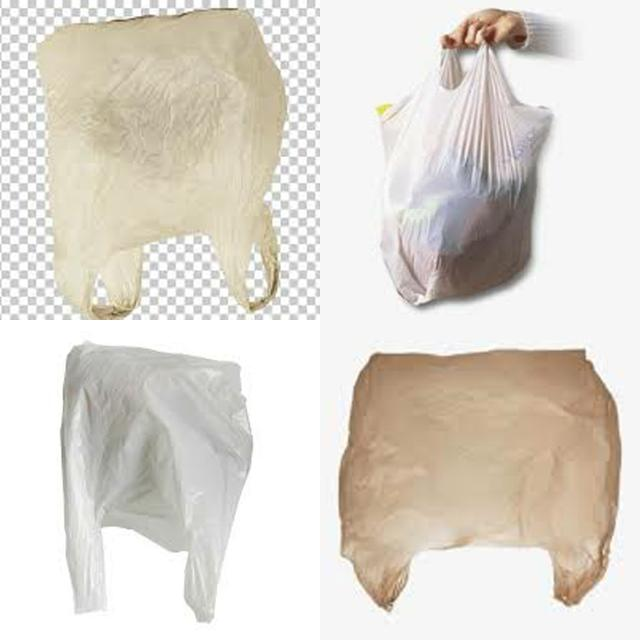Single-layer Plastic: (38, 9, 286, 319), (339, 350, 620, 609), (61, 344, 252, 621), (381, 44, 552, 305)
